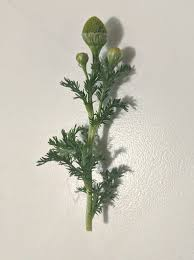pineple: (48, 46, 155, 142)
